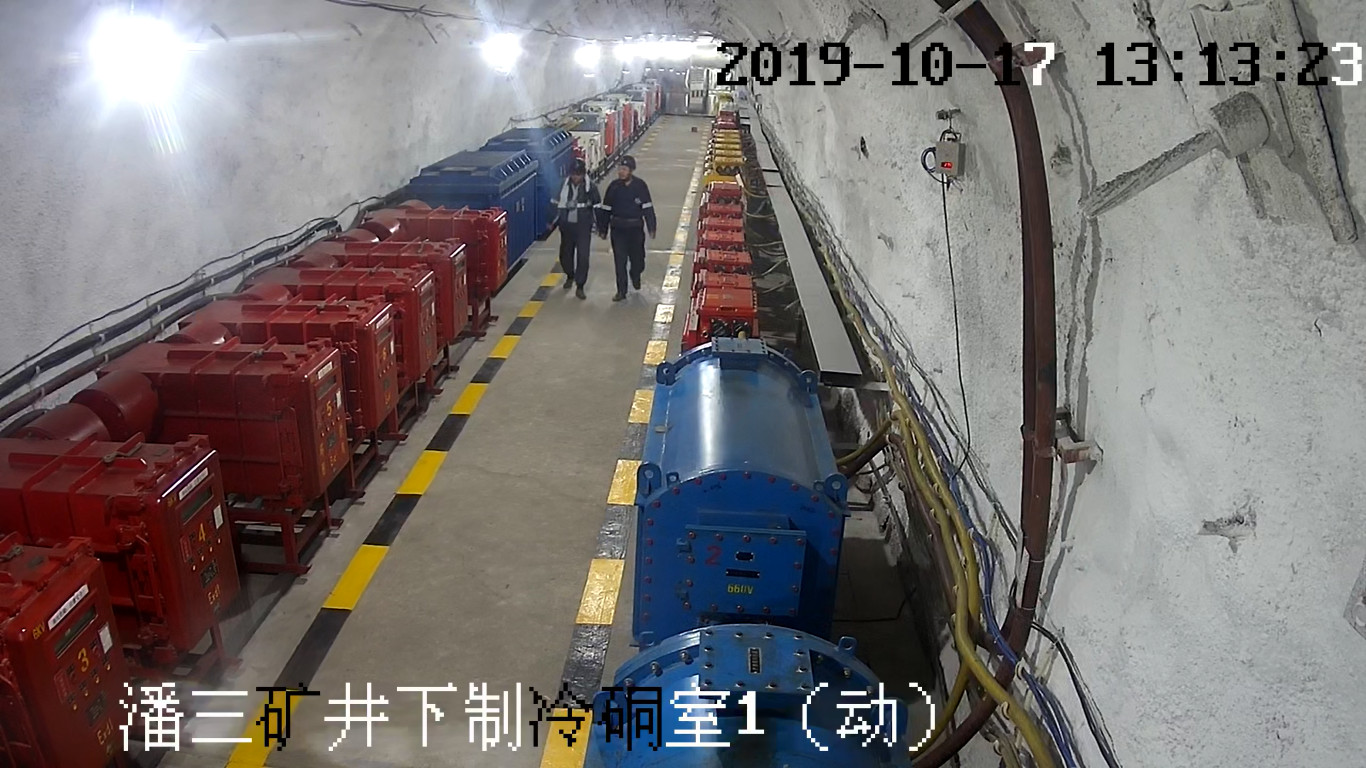helmet: (616, 154, 636, 170), (567, 157, 585, 174)
